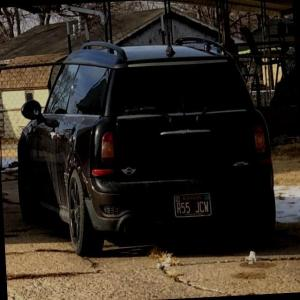Plate: (173, 192, 212, 218)
